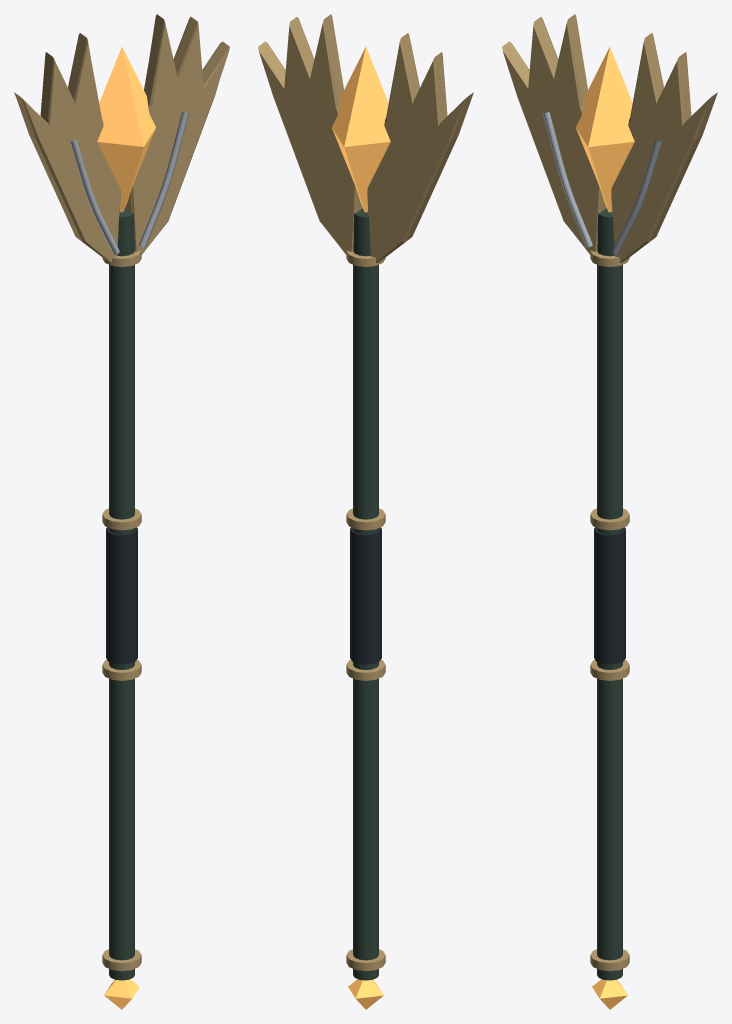
The model's file is universal-high.glb.
3 views of the same model, side by side, from view 1: azimuth 30°, elevation 25°; view 2: azimuth 150°, elevation 25°; view 3: azimuth 330°, elevation 25° (orthographic).
Visible parts, largest first — view 1: Hearthkeeper Staff; view 2: Hearthkeeper Staff; view 3: Hearthkeeper Staff.
Part boxes in pixels (x1,y1,x2,y2): Hearthkeeper Staff: (14,14,229,1009); Hearthkeeper Staff: (258,14,473,1009); Hearthkeeper Staff: (502,14,717,1009).
Size of the model in its own units: 0.4057 by 1.83 by 0.147.
